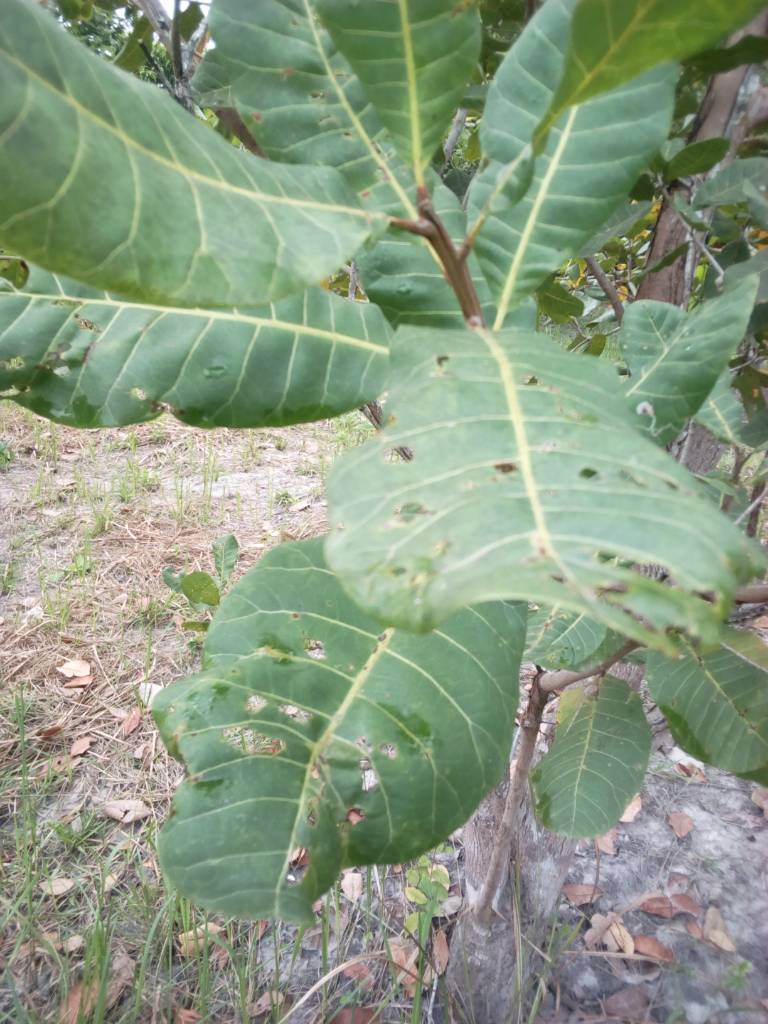Anoplonemis curvipes: (141, 536, 574, 922), (307, 314, 757, 666), (1, 244, 402, 439)
